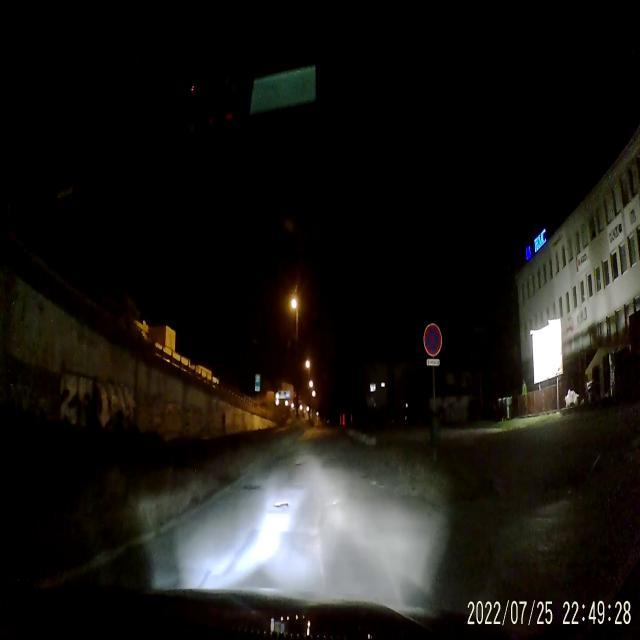Manhole: (238, 483, 262, 493)
Pothole: (274, 500, 292, 512), (293, 462, 304, 472)
